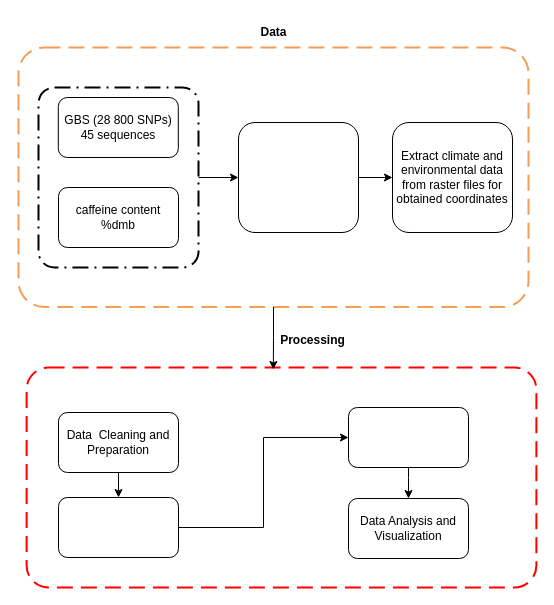
Image size: 554x605. Some labels were removed from this diagram. Here are the shapes that lost their labels. From the top down, the centre of each, then its label:
At [298,177]: "Obtain coordinates of species with both sequences and caffeine content from GBIF".
At [408,437]: "Model Validation".
At [118,527]: "Model Training".
